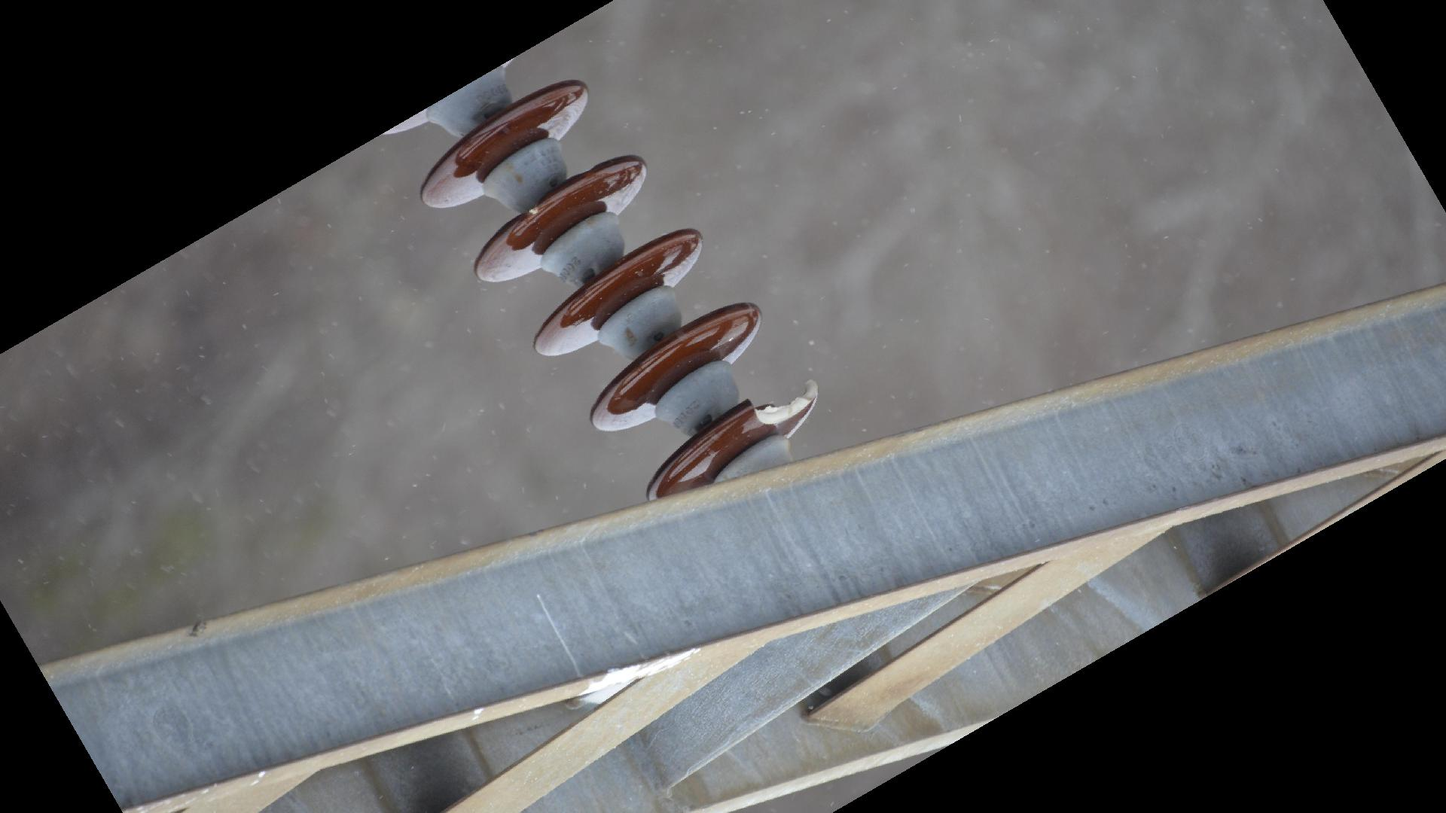insulator: (413, 74, 825, 501)
insulator_breakage: (741, 376, 823, 429)
